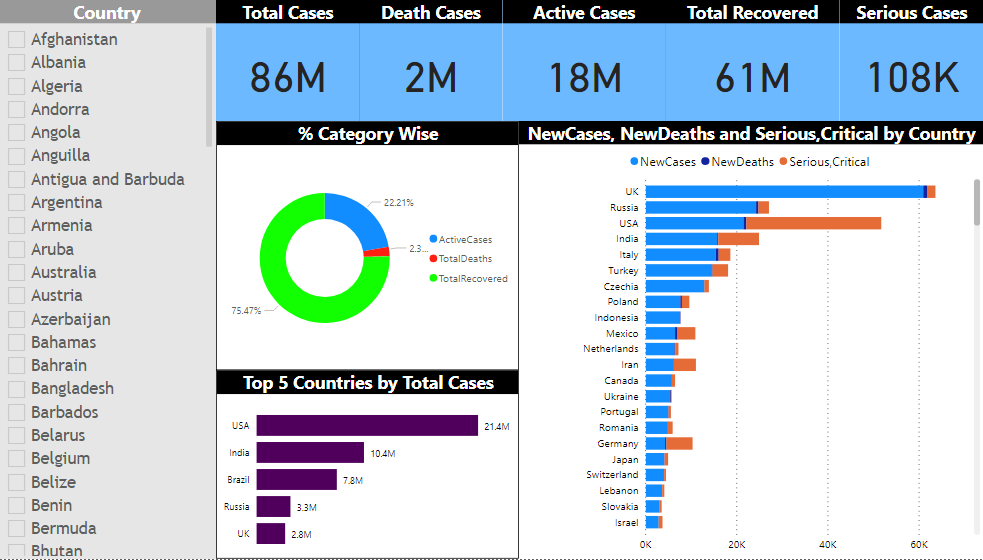

This screenshot's page, from the dashboard's own definition file:
{"tool":"powerbi","page":{"name":"Page 1","canvas":[1280,720],"ordinal":0},"visuals":[{"type":"slicer","title":"Country","fields":{"Values":["Table 1.Country,Other"]},"box":[10.1,0,280.5,720.6],"z":0},{"type":"card","title":"Total Cases","fields":{"Values":["Sum(Table 1.TotalCases)"]},"box":[290.6,0,184.8,156.2],"z":1000},{"type":"card","title":"Active Cases","fields":{"Values":["Sum(Table 1.ActiveCases)"]},"box":[661,0,208.6,156.4],"z":2000},{"type":"card","title":"Death Cases","fields":{"Values":["Sum(Table 1.TotalDeaths)"]},"box":[475.4,0,184.8,156.2],"z":3000},{"type":"card","title":"Total Recovered","fields":{"Values":["Sum(Table 1.TotalRecovered)"]},"box":[869.6,0,225.4,156.4],"z":4000},{"type":"card","title":"Serious Cases","fields":{"Values":["Sum(Table 1.Serious,Critical)"]},"box":[1095.2,0,184.8,156.2],"z":5000},{"type":"donutChart","title":"% Category Wise","fields":{"Y":["Sum(Table 1.ActiveCases)","Sum(Table 1.TotalDeaths)","Sum(Table 1.TotalRecovered)"]},"box":[290.6,156.2,389.7,320.8],"z":6000},{"type":"barChart","title":"Top 5 Countries by Total Cases","fields":{"Category":["Table 1.Country,Other"],"Y":["Sum(Table 1.TotalCases)"]},"box":[291,477,390,243],"z":7000},{"type":"barChart","title":"NewCases, NewDeaths and Serious,Critical by Country","fields":{"Category":["Table 1.Country,Other"],"Y":["Sum(Table 1.NewCases)","Sum(Table 1.NewDeaths)","Sum(Table 1.Serious,Critical)"]},"box":[681.2,156.4,598.8,563.5],"z":8000}]}

Visuals, with their boxes in screenshot pixels (x1, y1, x2, y2), scaled from the page's 1280x720 canvas onto the 983x560 screenshot:
"Country" slicer: locate(8, 0, 223, 559)
"Total Cases" card: locate(223, 0, 365, 121)
"Active Cases" card: locate(508, 0, 668, 122)
"Death Cases" card: locate(365, 0, 507, 121)
"Total Recovered" card: locate(668, 0, 841, 122)
"Serious Cases" card: locate(841, 0, 982, 121)
"% Category Wise" donutChart: locate(223, 121, 522, 371)
"Top 5 Countries by Total Cases" barChart: locate(223, 371, 523, 559)
"NewCases, NewDeaths and Serious,Critical by Country" barChart: locate(523, 122, 982, 559)
